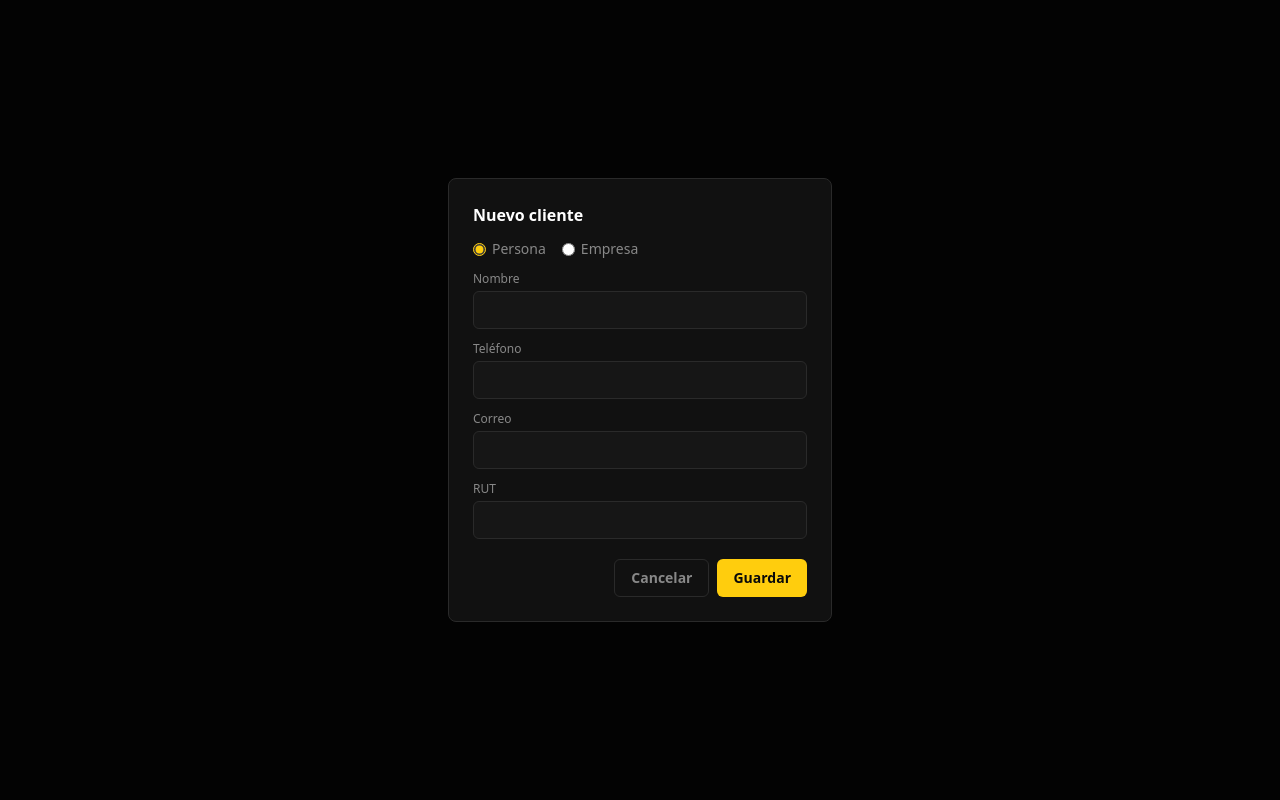
Scenario: ClientFormModal › error del backend se muestra sin cerrar el modal
The image size is (1280, 800).
Type "Ana Soto" into the field labelled "Nombre" at (640, 310), box [473,291,807,329]
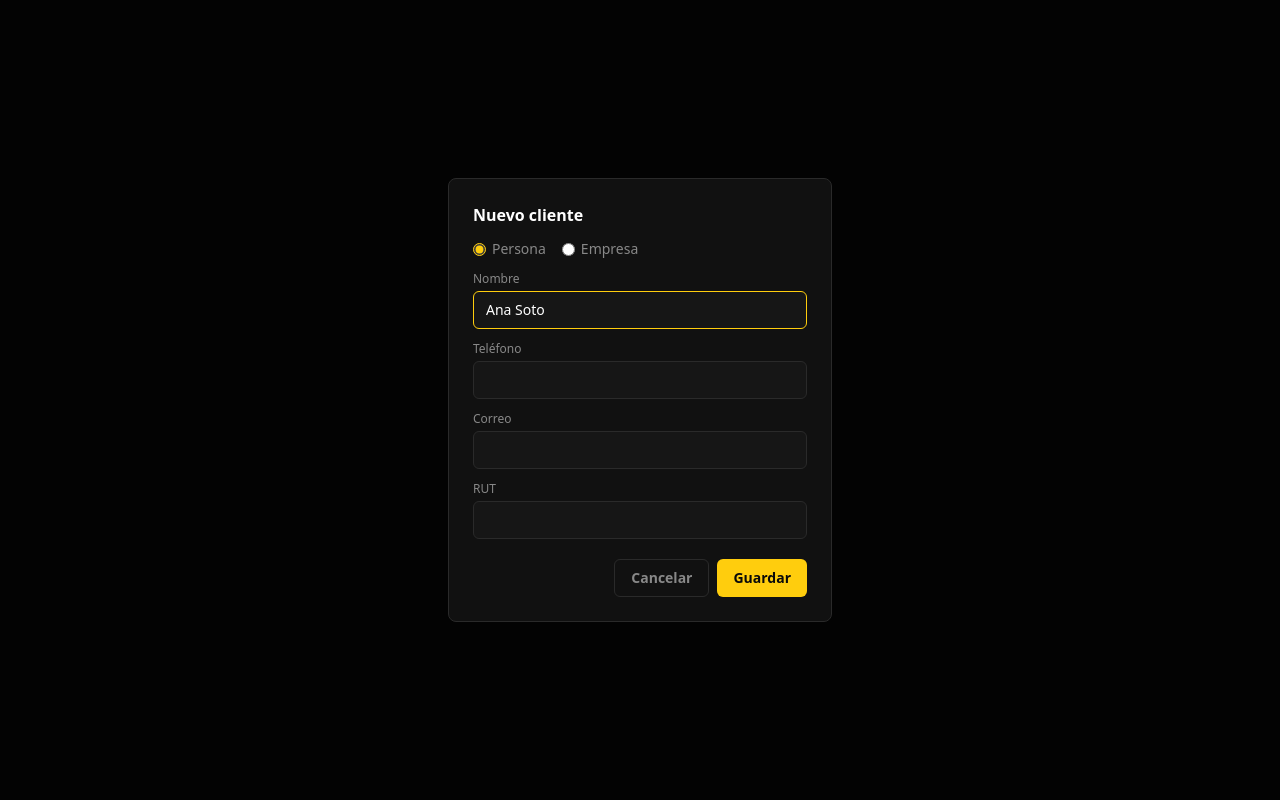
Type "+56911111111" into the field labelled "Teléfono" at (640, 380), box [473,361,807,399]
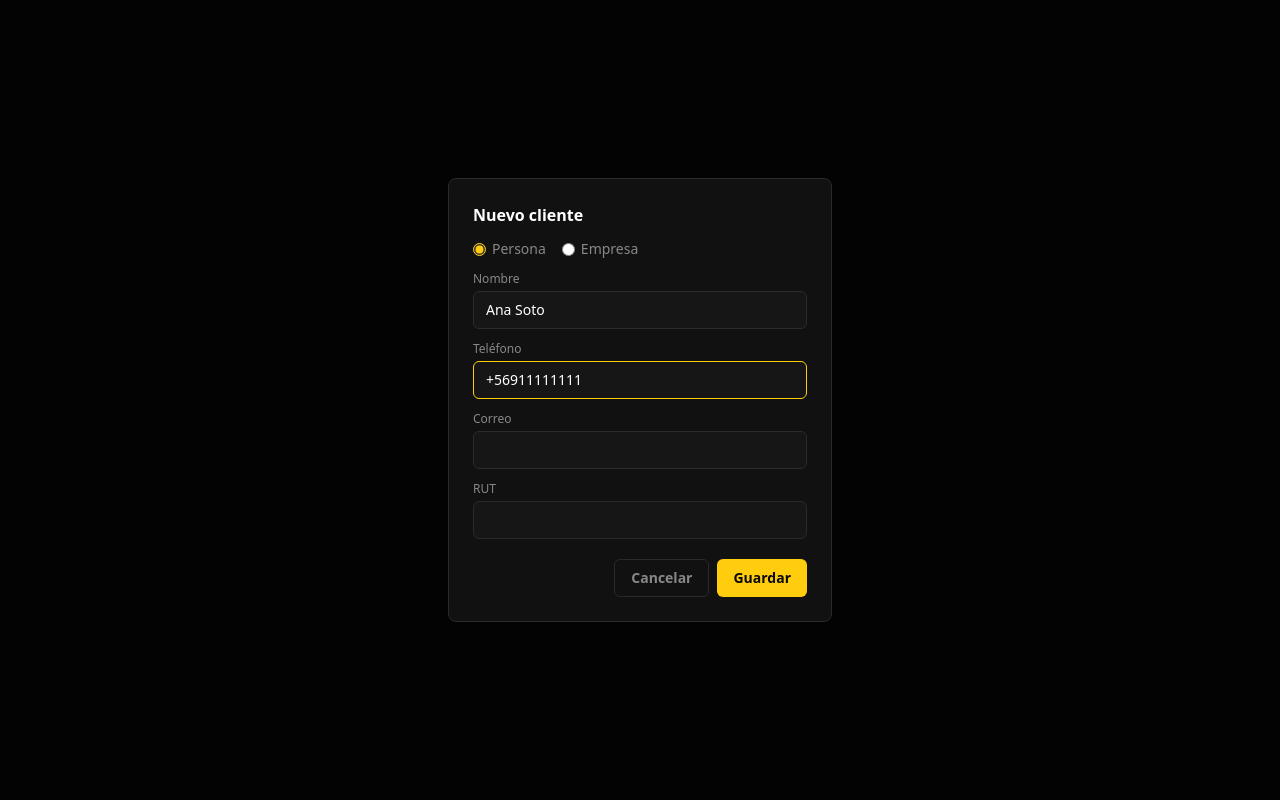
Click the button "Guardar" at (762, 578), box [718,559,807,597]
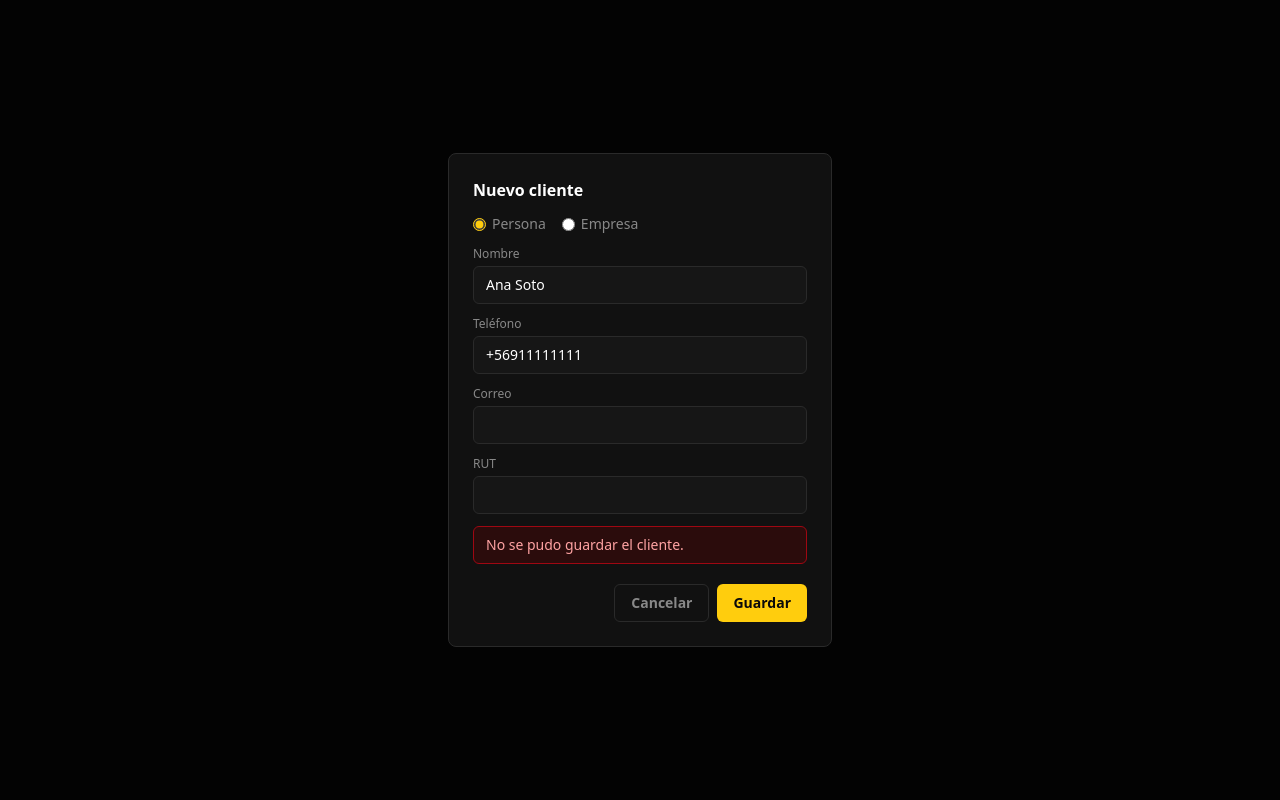
Check: the text "No se pudo guardar el cliente." is shown, box [473,526,807,564]
